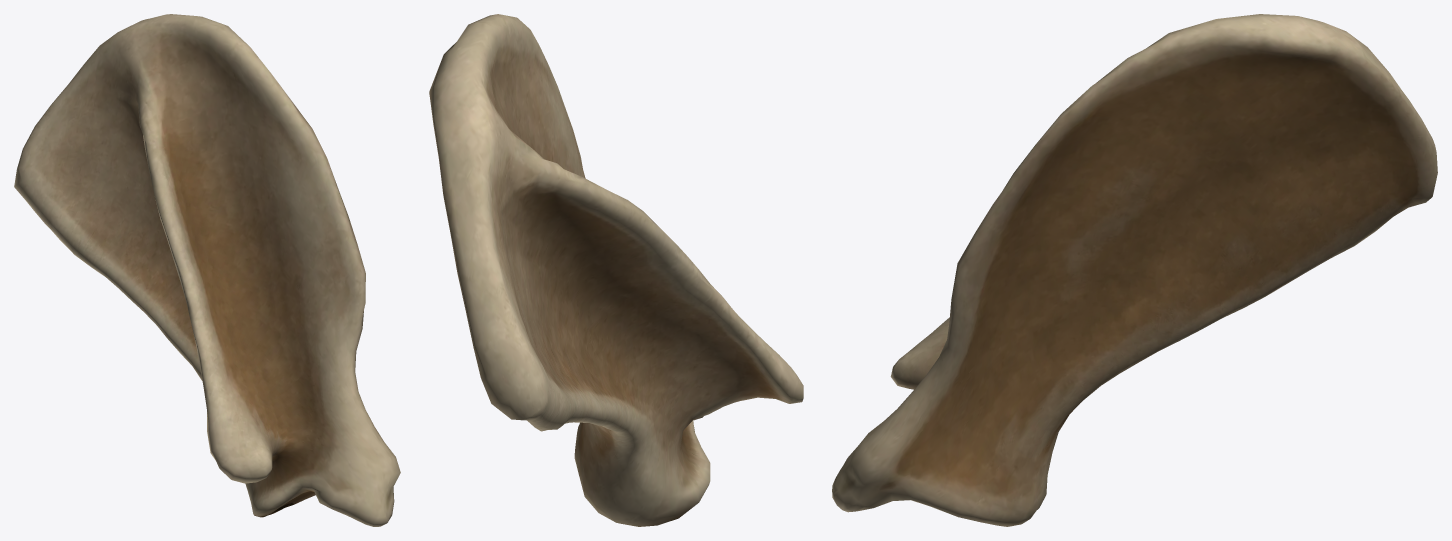
File: Scapula.glb
3 views of the same model, side by side, from view 1: azimuth 30°, elevation 25°; view 2: azimuth 150°, elevation 25°; view 3: azimuth 270°, elevation 25° (orthographic). The views are drawn at different scales.
Parts seen in each view (by area): view 1: Scapula_Right1:Group16498; view 2: Scapula_Right1:Group16498; view 3: Scapula_Right1:Group16498.
Part boxes in pixels (box(x1,y1,x2,y2)): Scapula_Right1:Group16498: box(14, 14, 400, 526); Scapula_Right1:Group16498: box(429, 14, 803, 526); Scapula_Right1:Group16498: box(832, 14, 1437, 526).
Bounding box in the file's own units: 30.33 × 72.36 × 77.24.
1 material, 1 textured.
